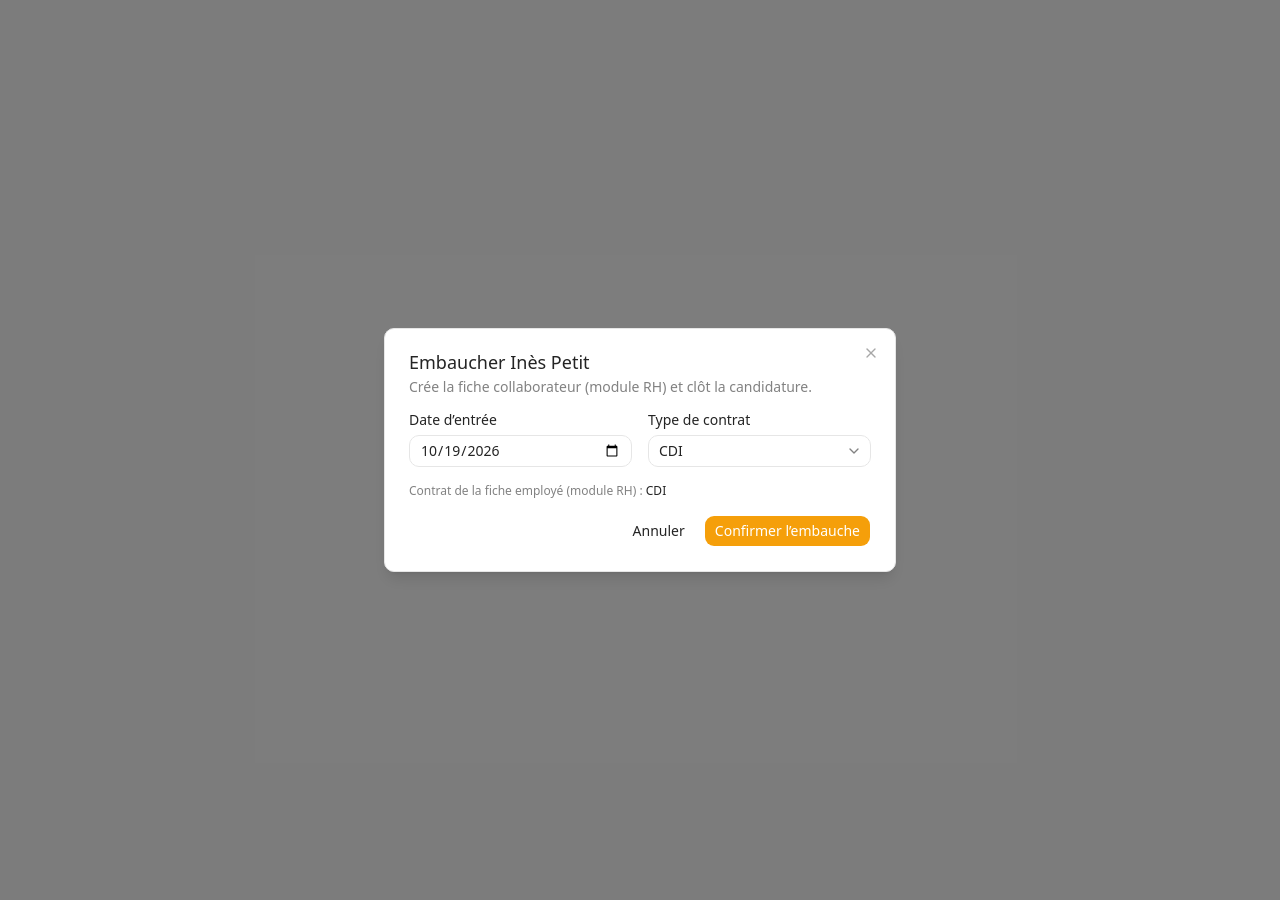
Test: EmbaucheDialog › affiche le refus du serveur
Click the button "Confirmer l’embauche" at x=787, y=531, box [704,515,871,547]
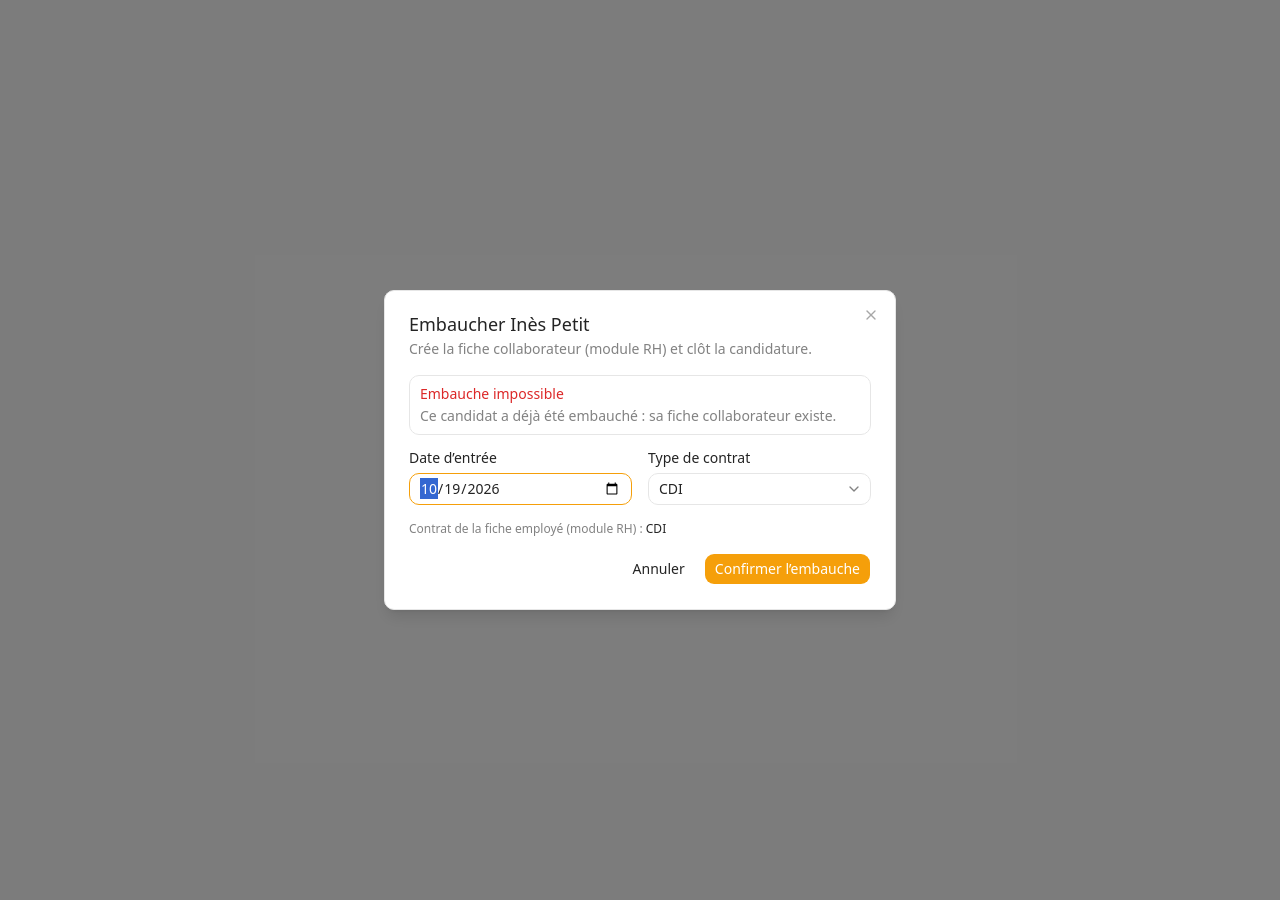
Expected: the text "Ce candidat a déjà été embauché : sa fiche collaborateur existe." is shown, [420,406,860,426]
